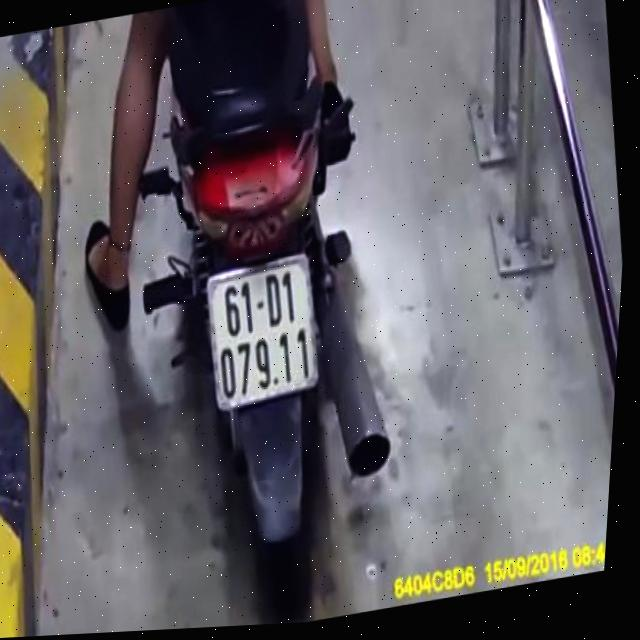motorcycle: (88, 0, 443, 633)
plate: (189, 251, 332, 414)
